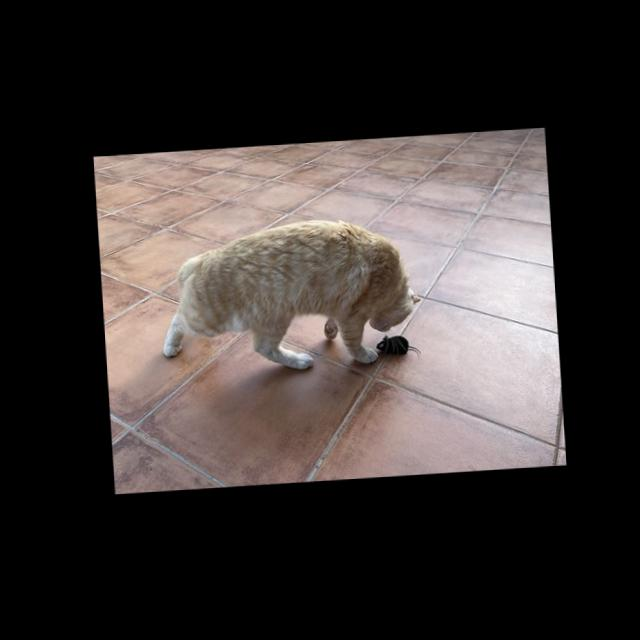animals: (154, 215, 421, 380)
